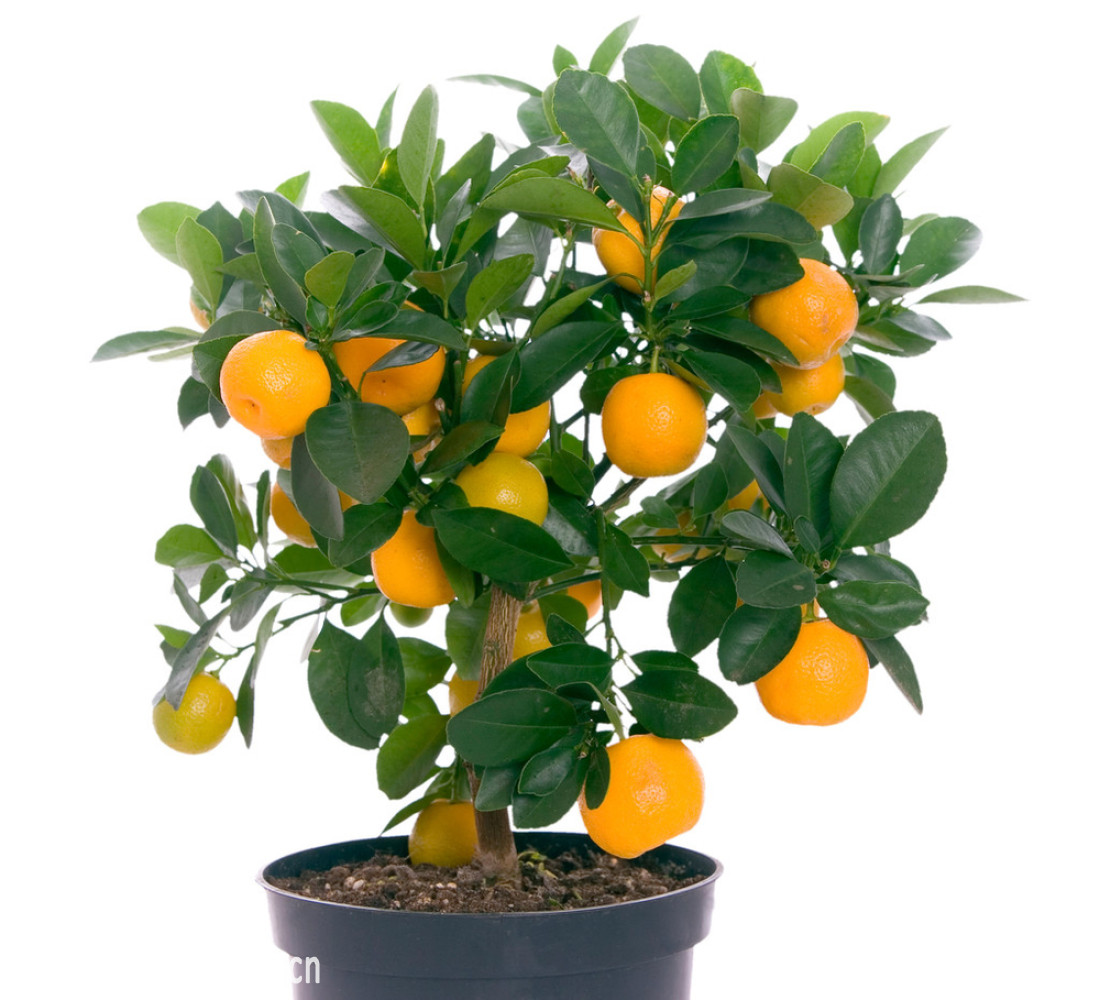orange: (581, 733, 706, 860), (747, 618, 871, 728), (332, 297, 445, 408), (221, 323, 330, 435), (740, 259, 855, 365), (366, 504, 473, 617), (447, 451, 554, 564), (595, 185, 710, 285), (602, 368, 706, 477), (456, 351, 558, 452), (268, 456, 370, 547), (150, 668, 237, 755), (760, 341, 854, 415)
